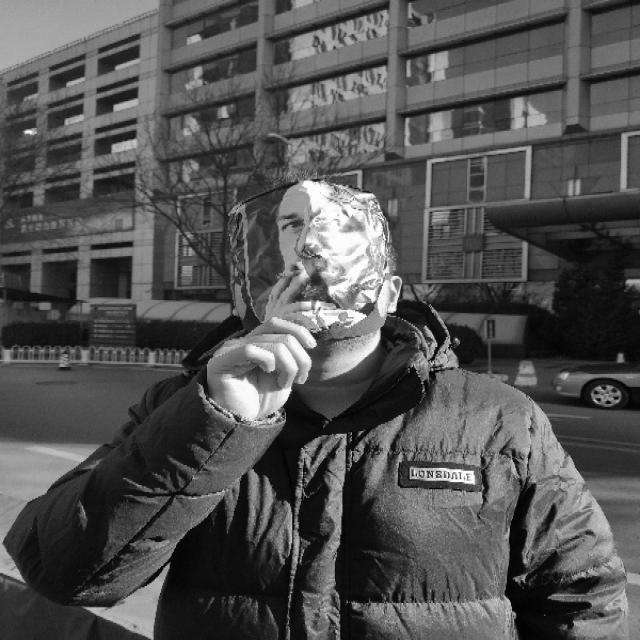fake: (234, 169, 402, 384)
